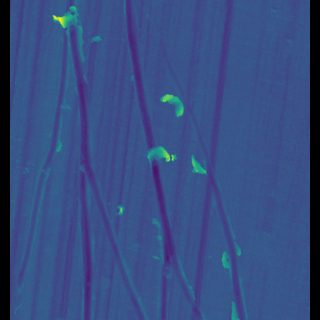Loch: (124, 0, 244, 320), (73, 18, 148, 319), (23, 26, 76, 294), (144, 143, 178, 167), (57, 8, 91, 31), (158, 92, 186, 118), (189, 155, 206, 177)
